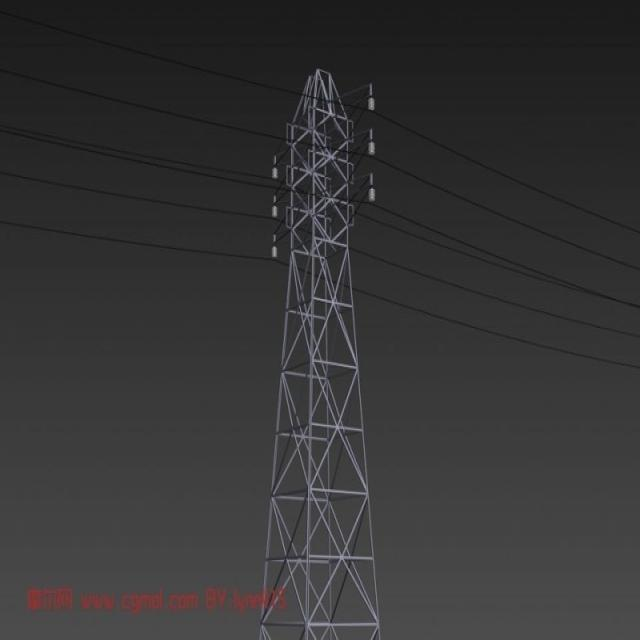non-critical vegetation: (260, 52, 400, 634)
